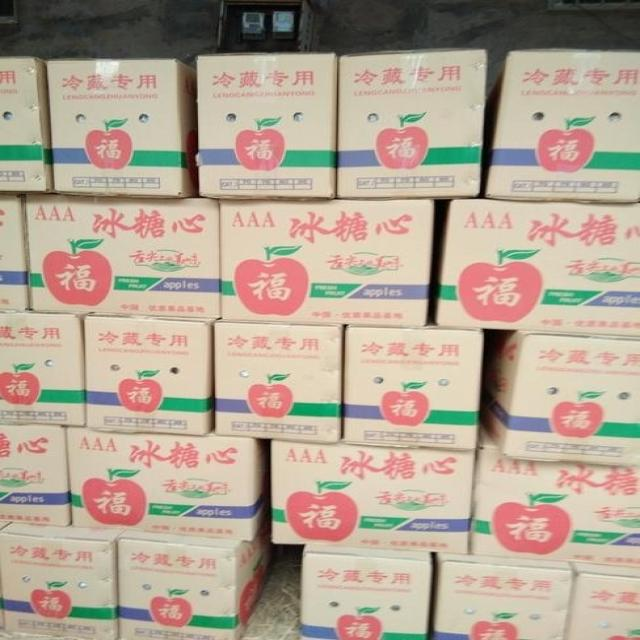box: (216, 198, 436, 326), (436, 200, 639, 337), (468, 414, 639, 566), (24, 196, 222, 320), (273, 437, 476, 555), (482, 51, 639, 202), (67, 428, 270, 539), (334, 51, 484, 199), (478, 330, 639, 466), (45, 60, 195, 197), (119, 512, 280, 639), (197, 55, 338, 199), (341, 324, 481, 449), (84, 311, 215, 436), (211, 318, 344, 441), (0, 522, 125, 639), (430, 554, 576, 639), (297, 547, 431, 638), (0, 309, 85, 428), (0, 425, 73, 526), (0, 57, 51, 195), (562, 561, 638, 639), (0, 195, 26, 310)
